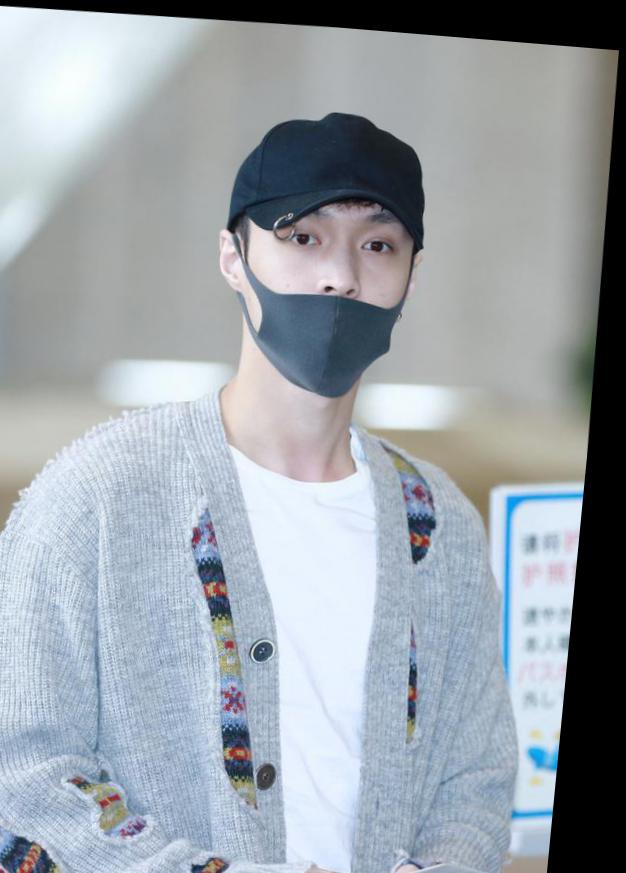WRONG: (247, 173, 426, 398)
